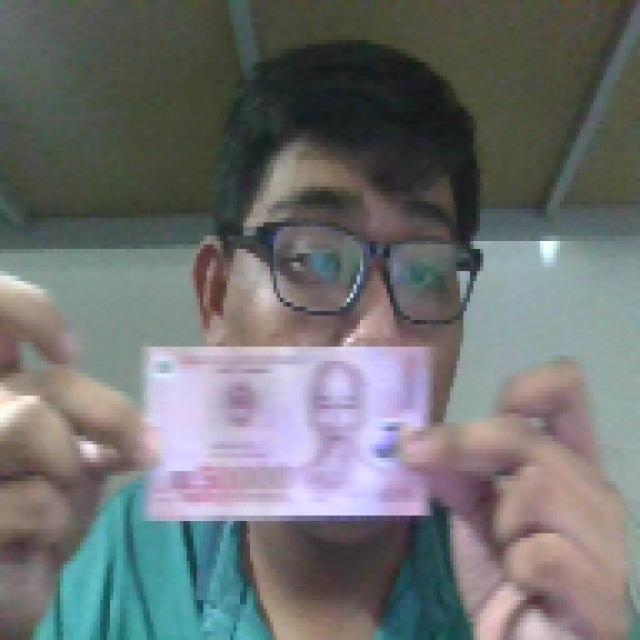50 000 VND: (136, 338, 436, 524)
